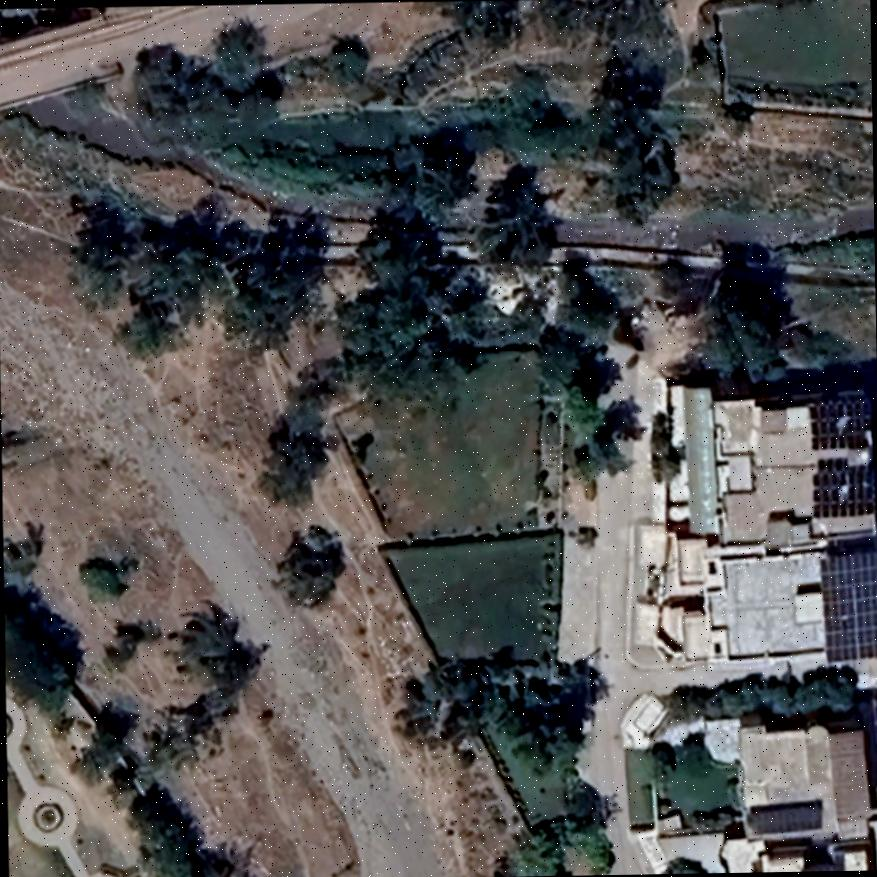Solarpanel: (816, 547, 877, 664), (811, 455, 877, 518), (805, 395, 873, 449), (745, 800, 823, 836)
